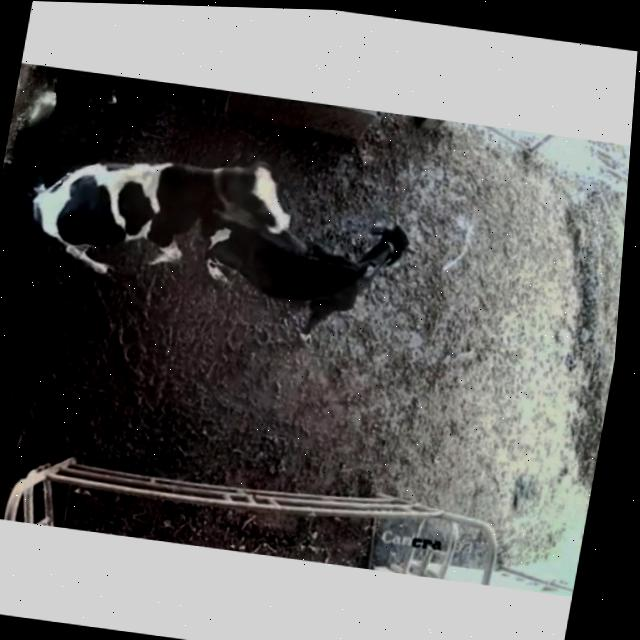ride: (0, 118, 313, 305)
